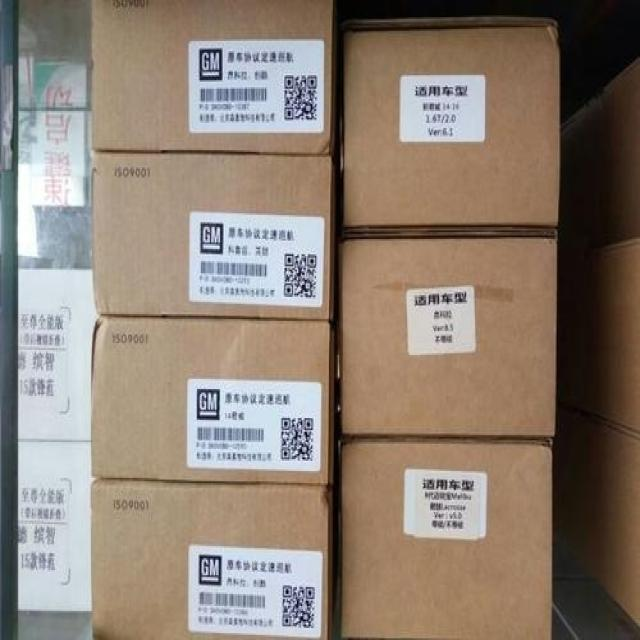box: (343, 17, 561, 232), (342, 229, 559, 439), (340, 439, 553, 640), (91, 152, 335, 323), (90, 314, 334, 485), (91, 478, 333, 640), (90, 0, 335, 155), (17, 49, 93, 271), (17, 270, 96, 440), (17, 442, 92, 613), (593, 420, 640, 626), (602, 239, 640, 433), (608, 60, 640, 244)
